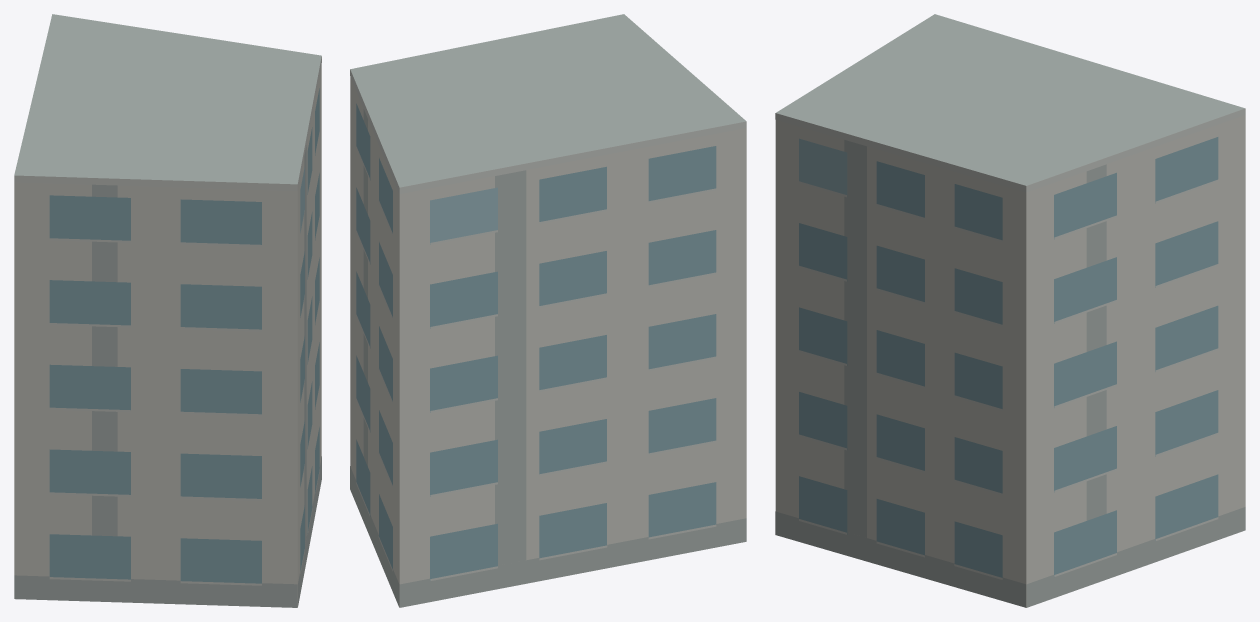
Rendered from survey-upis-32808725.glb.
3 renders of one model, left to right at view 1: azimuth 30°, elevation 25°; view 2: azimuth 150°, elevation 25°; view 3: azimuth 270°, elevation 25°, orthographic.
Parts seen in each view (by area): view 1: survey-upis-32808725.tmp; view 2: survey-upis-32808725.tmp; view 3: survey-upis-32808725.tmp.
Boxes of the visible parts, left/top/right/bottom form: survey-upis-32808725.tmp: left=14, top=14, right=321, bottom=607; survey-upis-32808725.tmp: left=350, top=14, right=746, bottom=607; survey-upis-32808725.tmp: left=775, top=14, right=1245, bottom=607.
Size of the model in its own units: 13.33 by 15.25 by 15.4.
